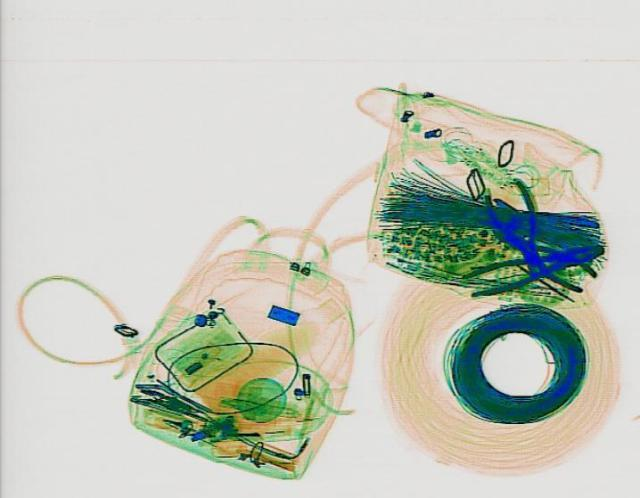Pliers: (457, 234, 611, 298), (475, 176, 559, 270)
